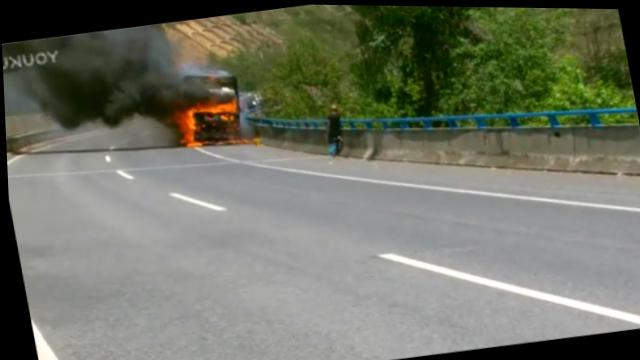fire: (177, 107, 198, 145), (189, 96, 238, 112)
